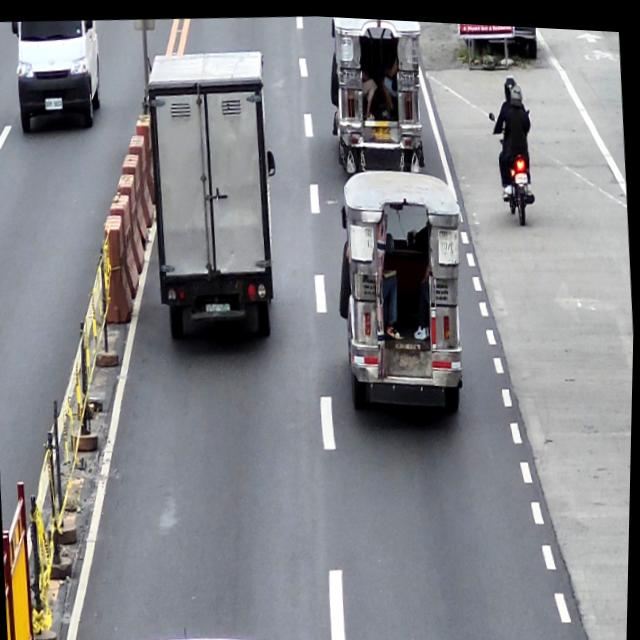Jeep: (330, 157, 477, 425), (323, 13, 429, 176)
License-Plate: (372, 121, 392, 137), (205, 299, 231, 311), (515, 166, 529, 178)
Motorcycle: (486, 102, 539, 223)
Truck: (140, 40, 289, 342)
